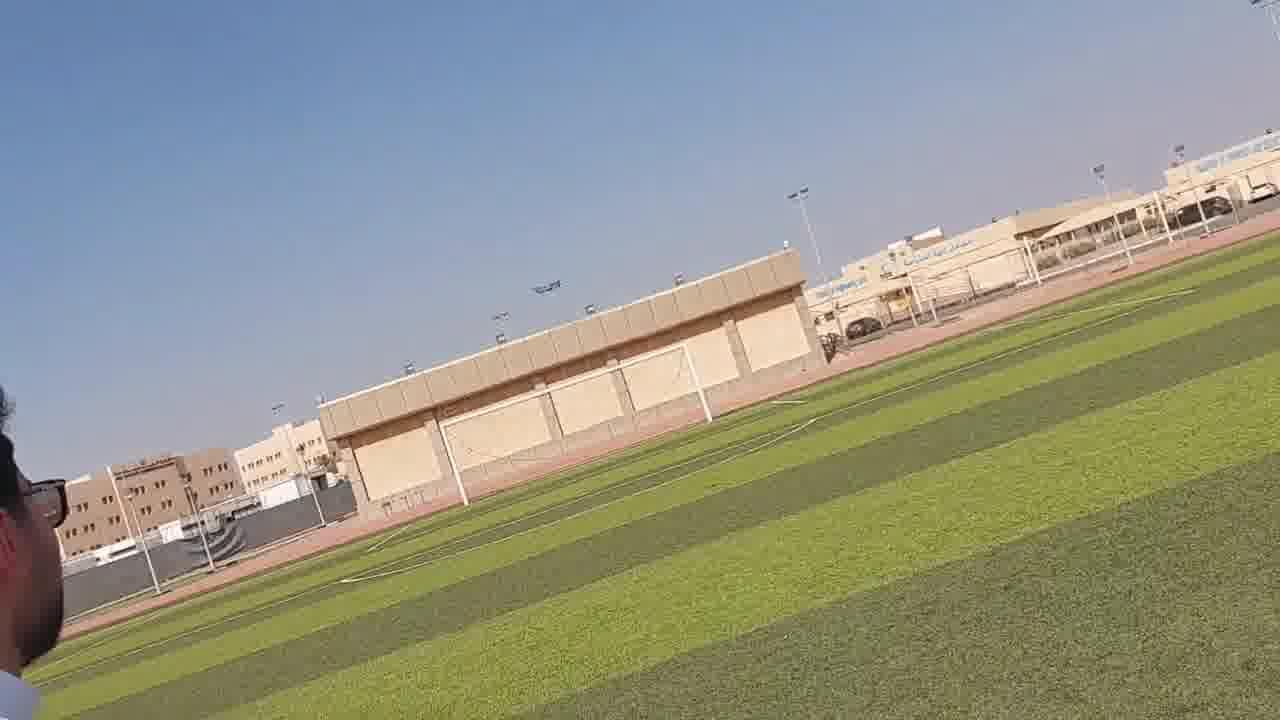drone: (524, 271, 573, 297)
